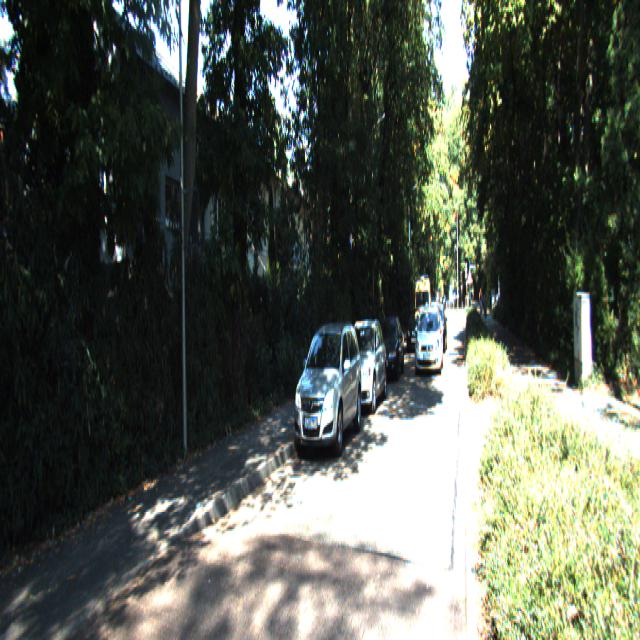Car: (293, 318, 362, 465), (338, 316, 389, 416), (414, 306, 444, 377), (376, 314, 406, 382), (414, 272, 433, 341), (407, 306, 424, 352)
